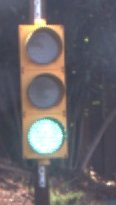Green: (13, 19, 90, 167)
